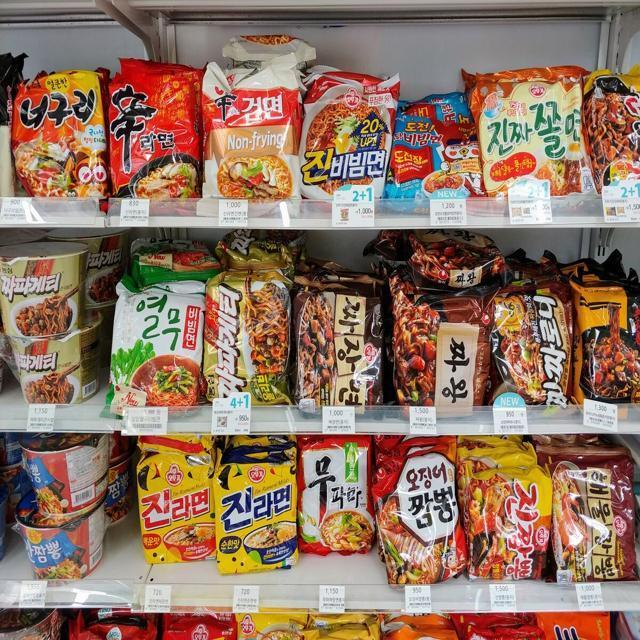product: (471, 67, 593, 199), (203, 74, 299, 209), (370, 451, 465, 585), (114, 272, 204, 406), (109, 78, 202, 204), (391, 296, 491, 413), (297, 279, 383, 409), (306, 78, 391, 207), (17, 82, 107, 202), (208, 273, 293, 399), (462, 464, 550, 578), (494, 294, 578, 413), (558, 453, 632, 582), (298, 442, 375, 554), (218, 463, 297, 570), (395, 103, 479, 202), (137, 449, 212, 557), (3, 246, 86, 337), (579, 289, 640, 407), (589, 76, 640, 202), (24, 440, 104, 514), (11, 338, 89, 405), (20, 523, 101, 584)
